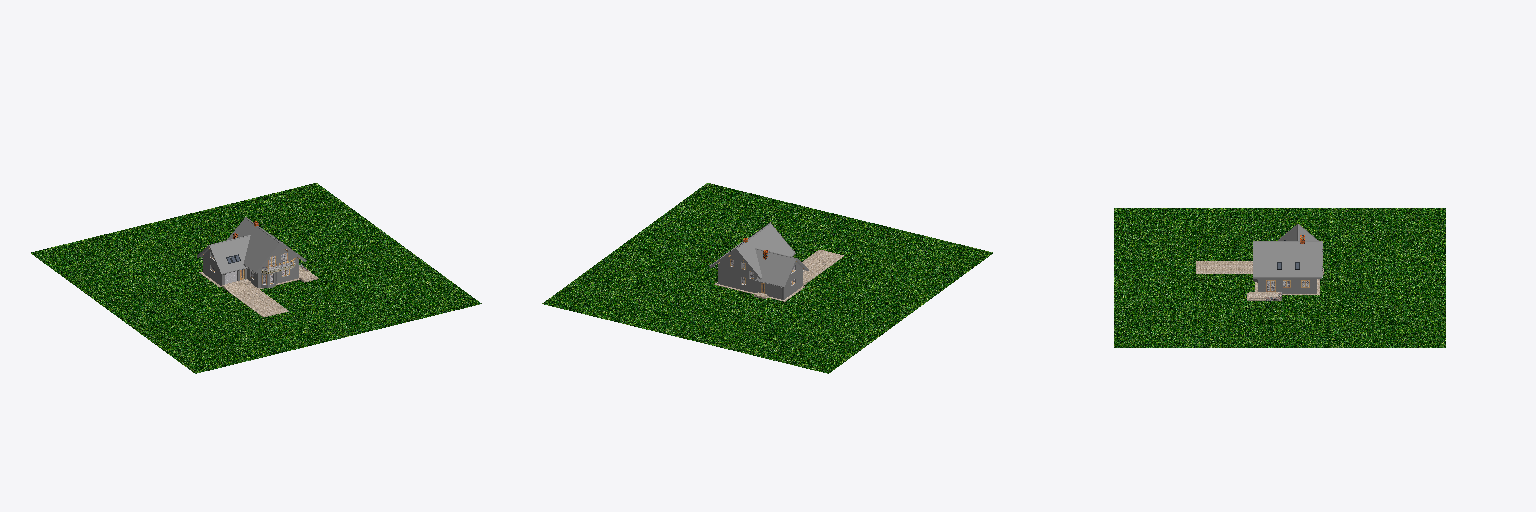
3 views of the same model, side by side, from view 1: azimuth 30°, elevation 25°; view 2: azimuth 150°, elevation 25°; view 3: azimuth 270°, elevation 25° (orthographic).
Parts seen in each view (by area): view 1: grass_platform, roof, ground_around_house, wall_exterior, roof_001; view 2: grass_platform, wall_exterior, roof, roof_001, ground_around_house; view 3: grass_platform, roof, ground_around_house, wall_exterior.
Boxes of the visible parts, box(x1,y1,x2,y2) form: grass_platform: box(31, 183, 481, 373); roof: box(228, 218, 305, 273); ground_around_house: box(199, 272, 299, 316); wall_exterior: box(203, 245, 298, 288); roof_001: box(197, 236, 249, 274); grass_platform: box(542, 183, 992, 373); wall_exterior: box(718, 251, 802, 299); roof: box(710, 224, 794, 279); roof_001: box(755, 249, 808, 287); ground_around_house: box(714, 250, 843, 301); grass_platform: box(1114, 208, 1445, 347); roof: box(1253, 242, 1321, 278); ground_around_house: box(1196, 261, 1323, 294); wall_exterior: box(1253, 279, 1316, 293).
Bounding box in the file's own units: 58.8 × 8.82 × 58.8.
Materials: 26 (11 with a texture image).